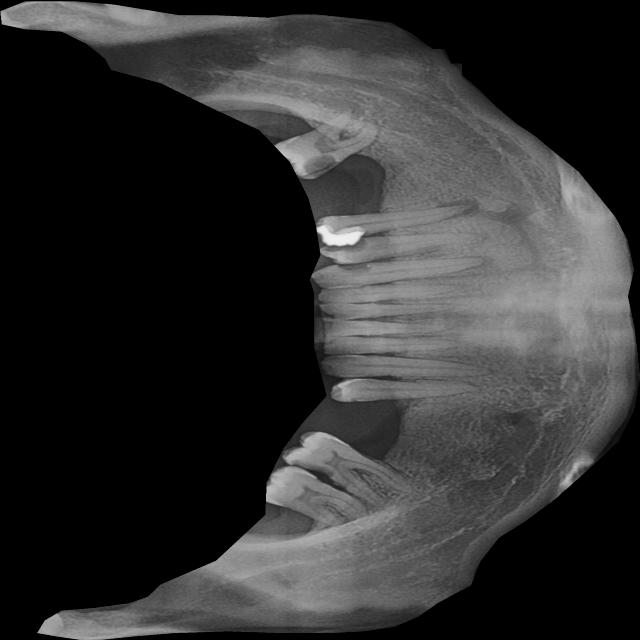mandibula: (0, 0, 640, 640)
